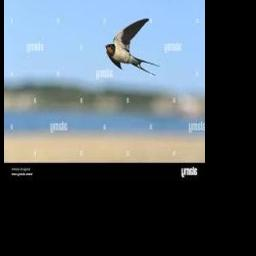Swallow: (106, 18, 159, 75)
